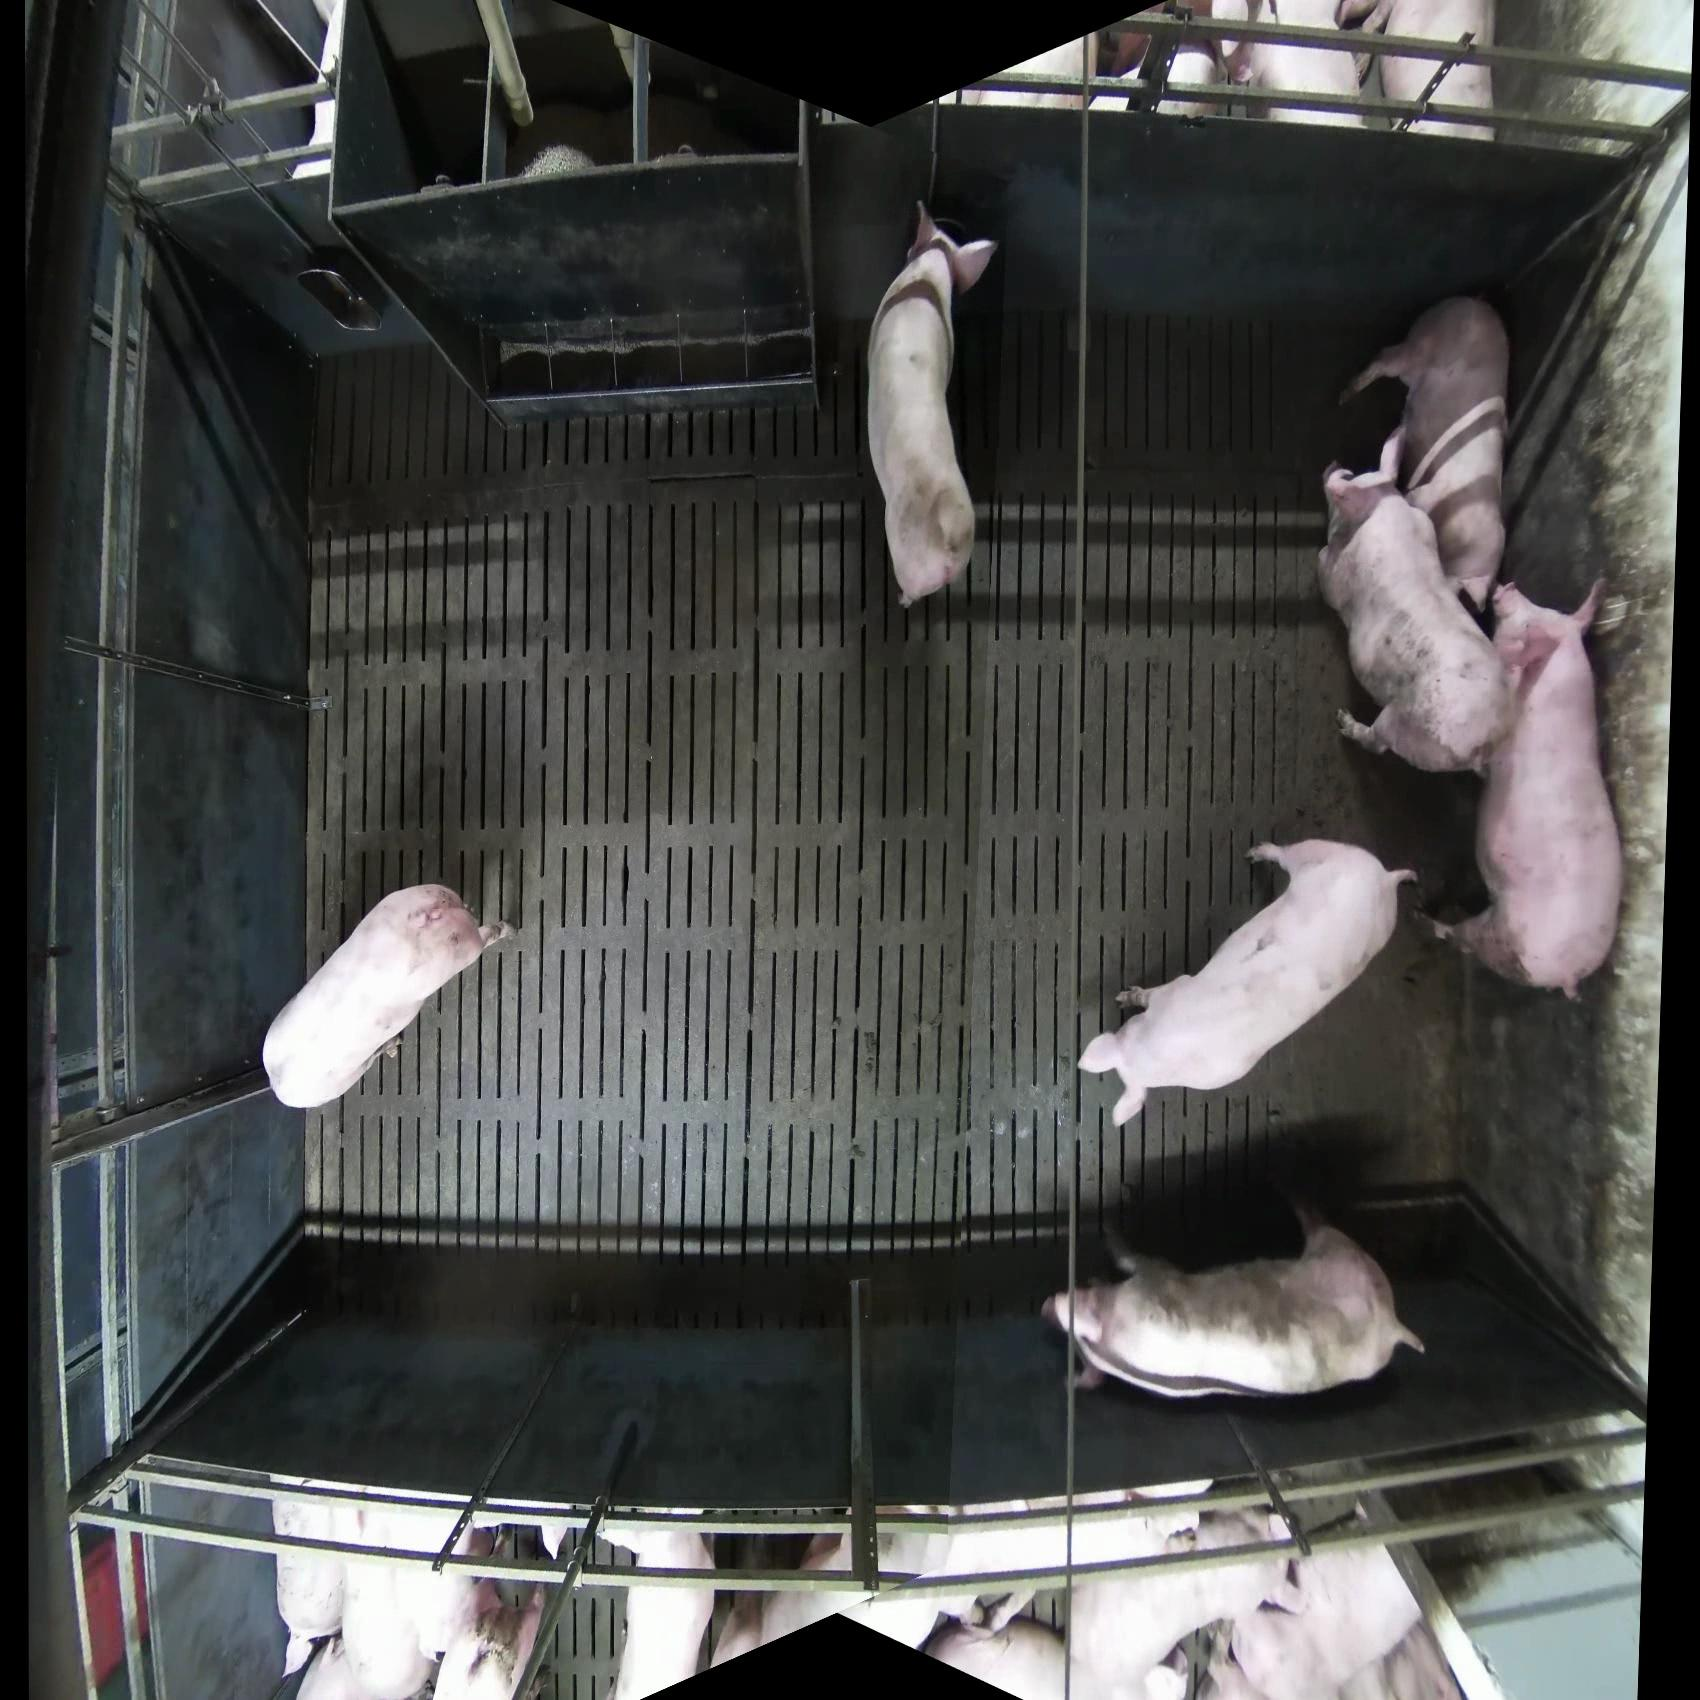pig: (1076, 836, 1418, 1129), (1418, 574, 1627, 1003), (1040, 1188, 1428, 1403), (1317, 428, 1519, 778), (271, 1488, 560, 1700), (262, 881, 515, 1110), (1337, 293, 1512, 620), (866, 199, 999, 609), (1207, 1501, 1463, 1700), (708, 1509, 954, 1670), (430, 1523, 557, 1698), (595, 1519, 719, 1698), (1213, 2, 1382, 128), (710, 1529, 847, 1670), (1372, 2, 1498, 142), (917, 1600, 1070, 1700), (1101, 3, 1228, 121), (984, 23, 1154, 86)
